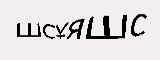С: (128, 10, 149, 37), (40, 20, 55, 40)
Ш: (85, 12, 129, 41), (15, 19, 42, 40)
Я: (67, 15, 83, 41)
Ұ: (54, 20, 69, 40)
